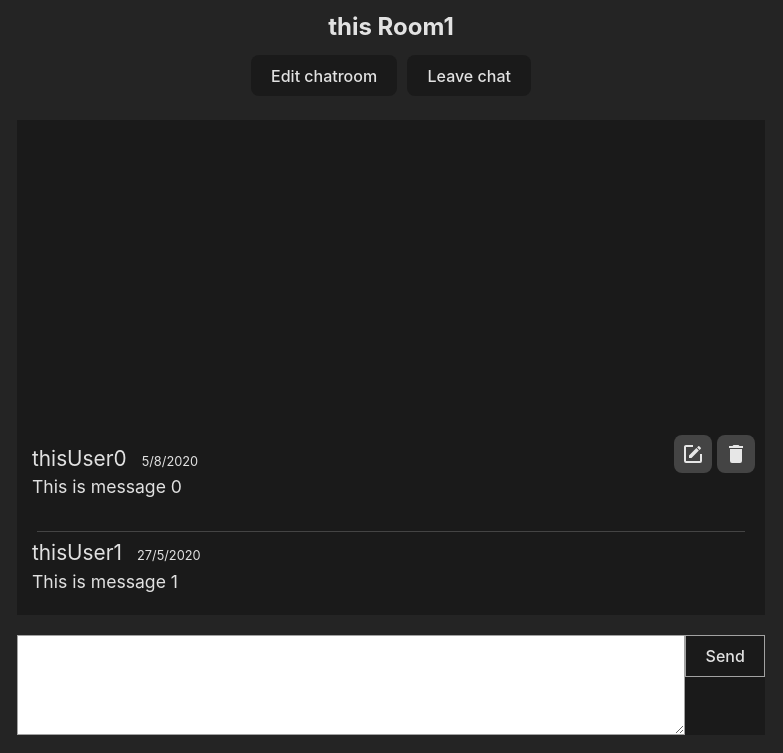
Test case: Chatroom gets messages then renders them › validation errors show.
This screenshot has width=783, height=753.
Step 1. Type "300+ characters, 300+ characters, 300+ characters, 300+ characters, 300+ characters, 300+ characters, 300+ characters, 300+ characters, 300+ characters, 300+ characters, 300+ characters, 300+ characte" into the text box → (351, 685), box [17, 635, 685, 735]
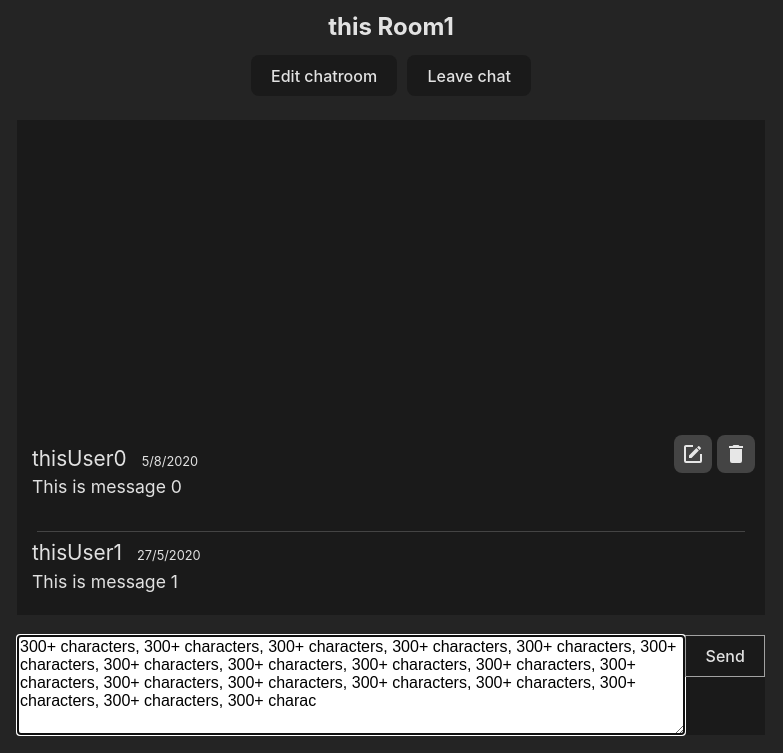
Step 2. Click the button "Send" → (725, 656), box [685, 635, 765, 677]
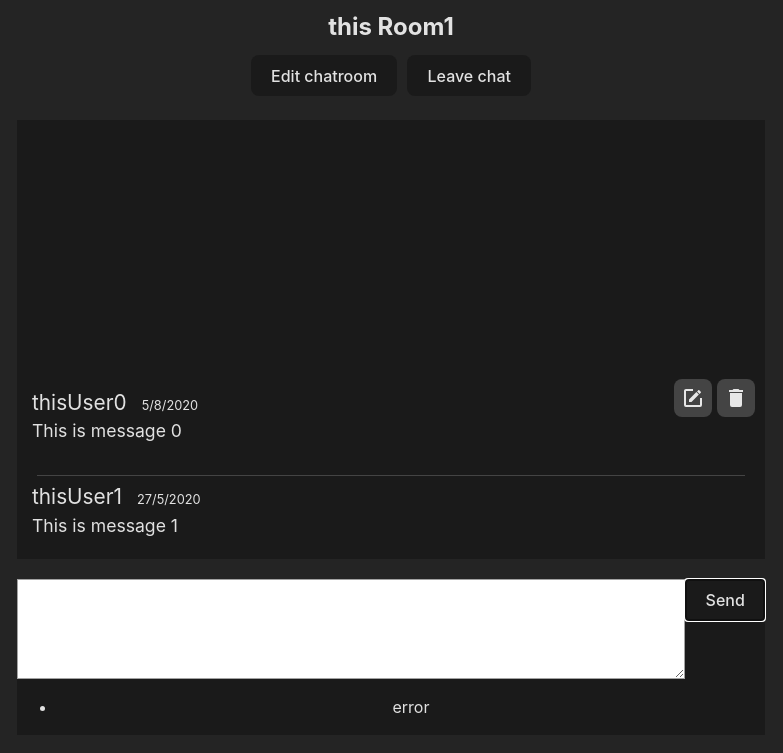
Check: the list item "error" is shown, box [392, 697, 430, 717]
